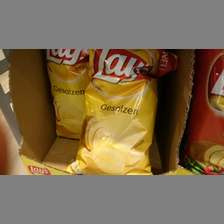chips: (80, 50, 159, 175), (46, 49, 90, 140)
